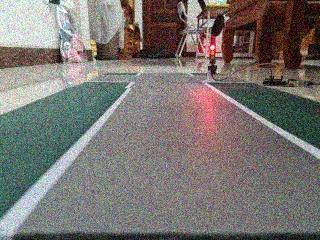red: (207, 38, 221, 69)
